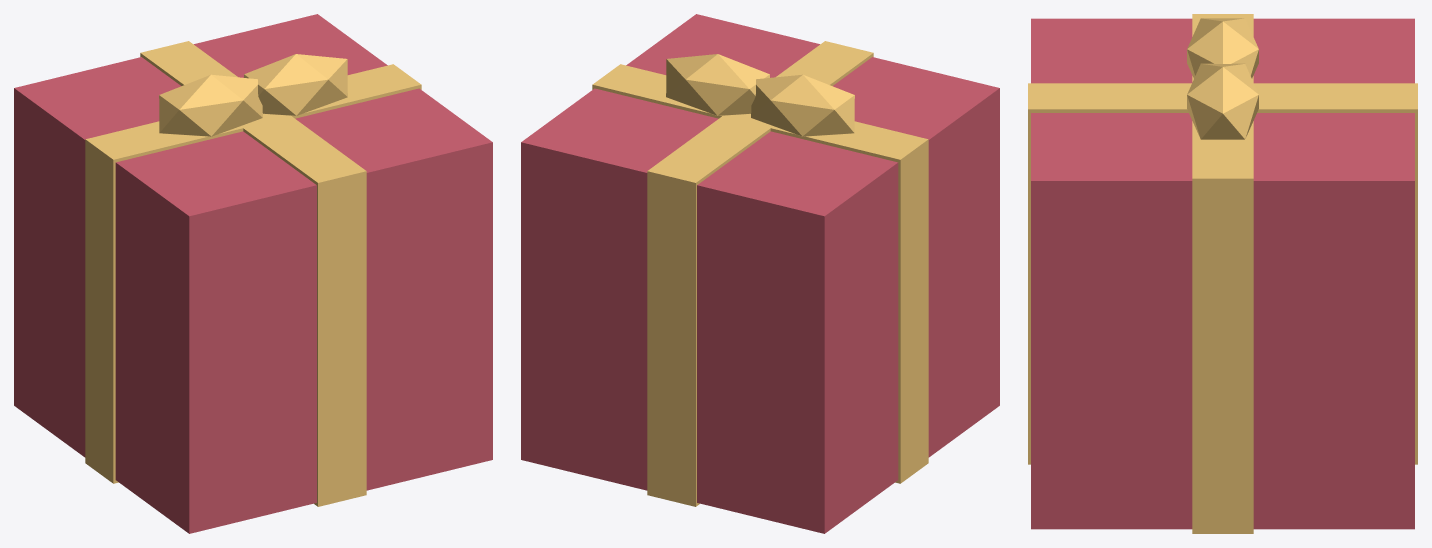
File: christmas-gift.glb
3 renders of one model, left to right at view 1: azimuth 30°, elevation 25°; view 2: azimuth 150°, elevation 25°; view 3: azimuth 270°, elevation 25°, orthographic. The views are drawn at different scales.
Parts seen in each view (by area): view 1: WrappedBox, WrappedRibbonA, WrappedRibbonB, WrappedBow, WrappedBow.001; view 2: WrappedBox, WrappedRibbonA, WrappedRibbonB, WrappedBow, WrappedBow.001; view 3: WrappedBox, WrappedRibbonB, WrappedRibbonA, WrappedBow.001, WrappedBow.
Part boxes in pixels (left/top/right/bottom): WrappedBox: left=14, top=14, right=492, bottom=533; WrappedRibbonA: left=140, top=41, right=366, bottom=506; WrappedRibbonB: left=85, top=64, right=421, bottom=483; WrappedBow: left=159, top=74, right=262, bottom=136; WrappedBow.001: left=244, top=54, right=347, bottom=115; WrappedBox: left=521, top=14, right=999, bottom=533; WrappedRibbonA: left=647, top=41, right=873, bottom=506; WrappedRibbonB: left=592, top=64, right=928, bottom=483; WrappedBow: left=751, top=74, right=854, bottom=136; WrappedBow.001: left=666, top=54, right=769, bottom=115; WrappedBox: left=1031, top=18, right=1414, bottom=529; WrappedRibbonB: left=1192, top=14, right=1253, bottom=533; WrappedRibbonA: left=1028, top=83, right=1417, bottom=464; WrappedBow.001: left=1187, top=63, right=1258, bottom=139; WrappedBow: left=1187, top=18, right=1258, bottom=78.
Size of the model in its own units: 0.3045 by 0.351 by 0.3045.
